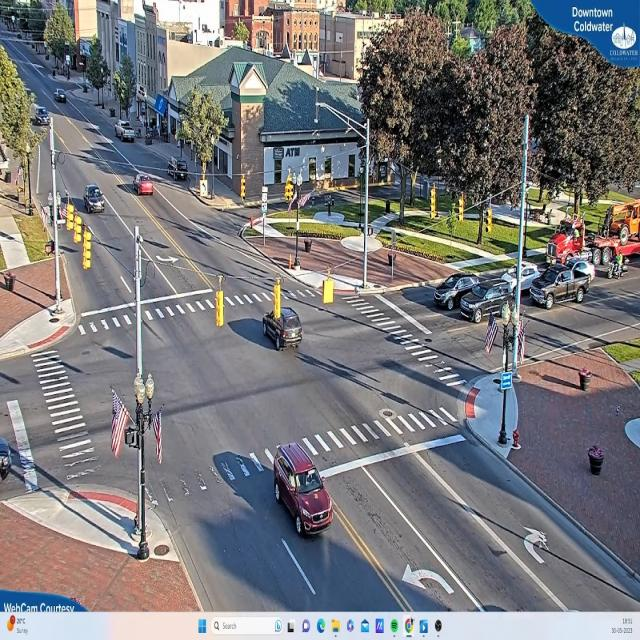car: (273, 437, 335, 538), (530, 257, 595, 309), (461, 284, 512, 322), (264, 309, 304, 350), (434, 276, 484, 308), (504, 265, 540, 291), (118, 121, 138, 143), (36, 109, 52, 126), (55, 91, 67, 102)
